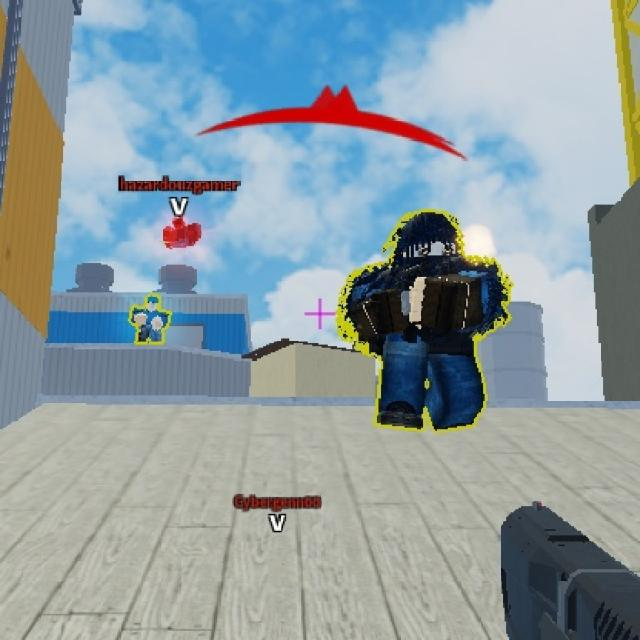player: (352, 195, 499, 450), (132, 291, 169, 350)
